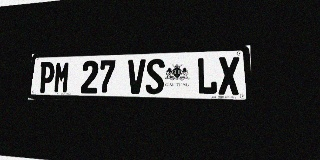2: (81, 60, 99, 93)
7: (97, 60, 116, 94)
L: (197, 57, 218, 95)
M: (53, 61, 71, 93)
P: (38, 62, 55, 93)
S: (145, 58, 165, 94)
V: (127, 59, 146, 94)
X: (218, 56, 240, 95)
